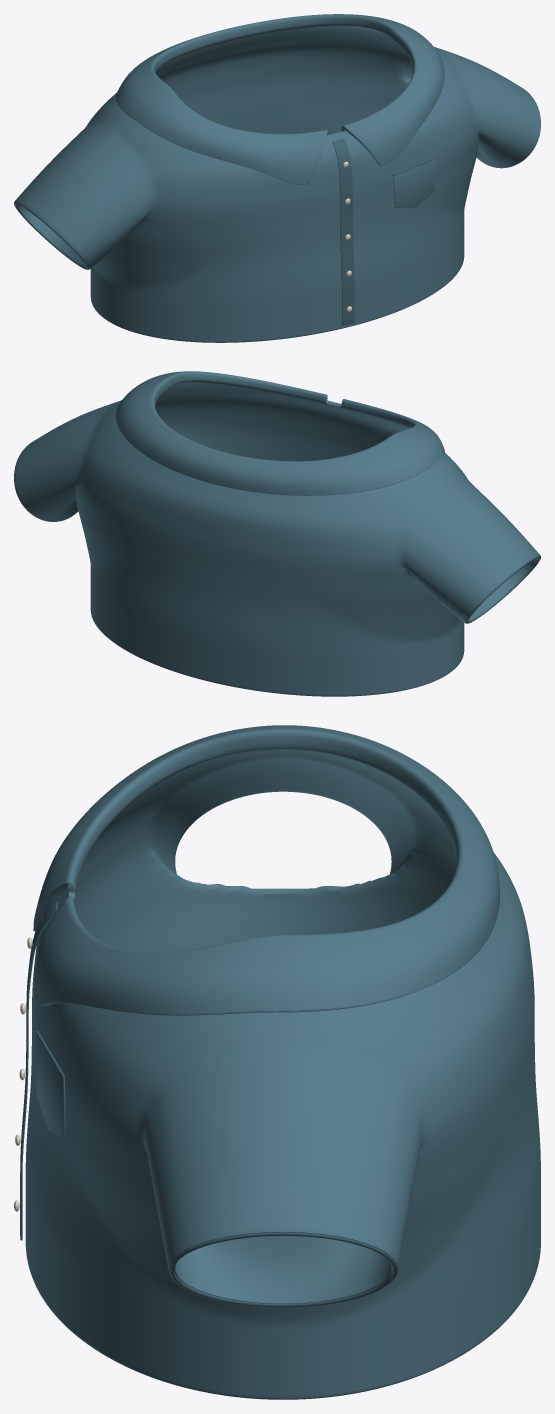
The model's file is Masculine-buttonup.glb.
3 views of the same model, one above another, from view 1: azimuth 30°, elevation 25°; view 2: azimuth 150°, elevation 25°; view 3: azimuth 270°, elevation 25° (orthographic). The views are drawn at different scales.
Visible parts, largest first — view 1: Clothing / tshirt, Button-up / closed placket, Button-up / chest pocket, Sleeve / soft cuff -1 export; view 2: Clothing / tshirt, Sleeve / soft cuff -1 export; view 3: Clothing / tshirt, Sleeve / soft cuff 1 export, Button-up / chest pocket, Button-up / closed placket.
Part boxes in pixels (x1,y1,x2,y2): Clothing / tshirt: (14, 14, 540, 342); Button-up / closed placket: (332, 138, 354, 325); Button-up / chest pocket: (393, 158, 436, 207); Sleeve / soft cuff -1 export: (14, 202, 89, 269); Clothing / tshirt: (14, 371, 540, 696); Sleeve / soft cuff -1 export: (465, 555, 540, 623); Clothing / tshirt: (25, 725, 540, 1398); Sleeve / soft cuff 1 export: (169, 1232, 397, 1307); Button-up / chest pocket: (36, 1035, 65, 1137); Button-up / closed placket: (20, 902, 57, 1240).
Size of the model in its own units: 0.9481 by 0.4075 by 0.4723.
